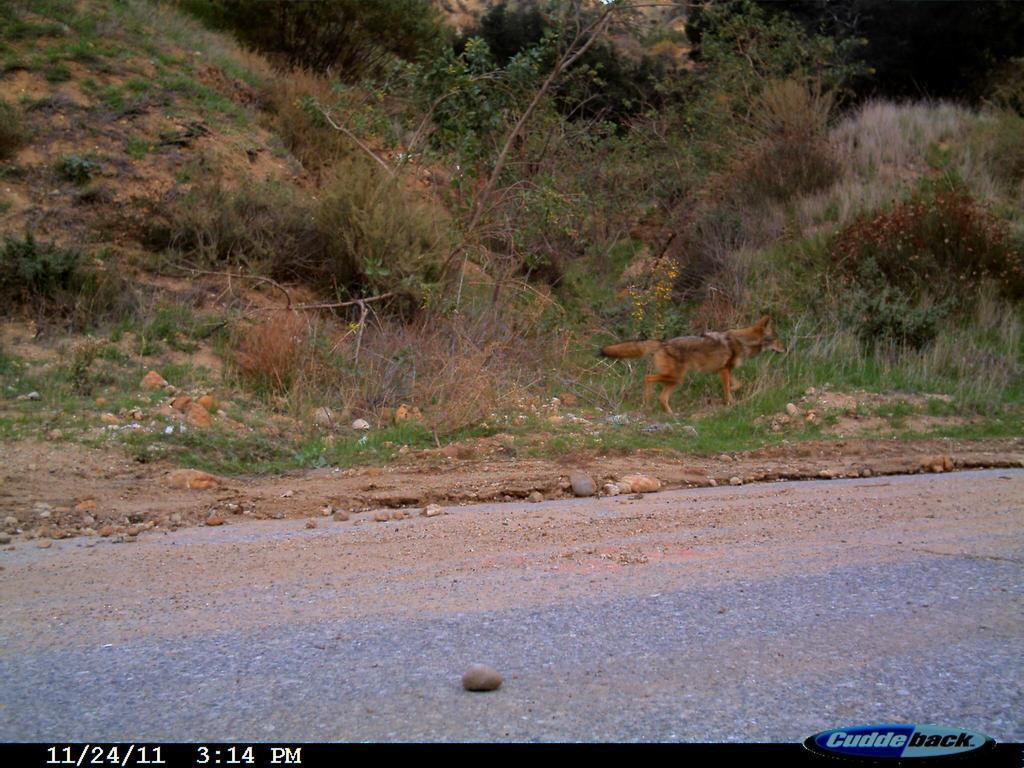coyote: (601, 306, 811, 427)
